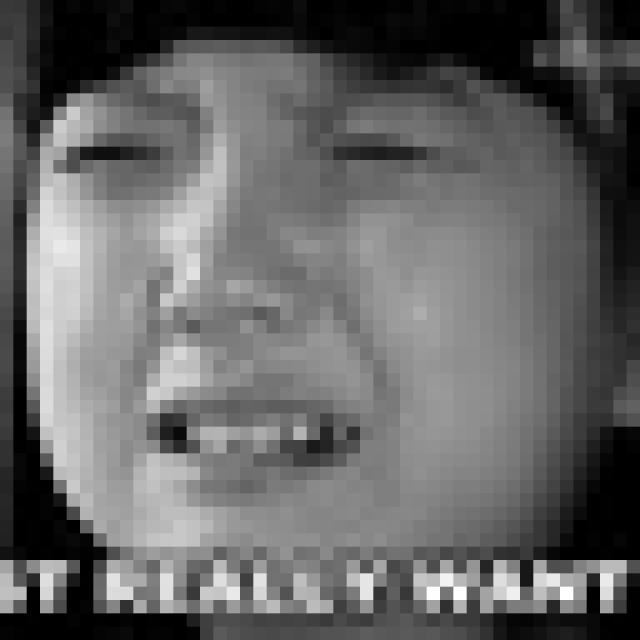sad: (42, 58, 498, 517)
